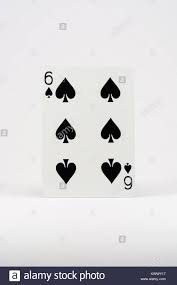six of spades: (38, 68, 135, 194)
